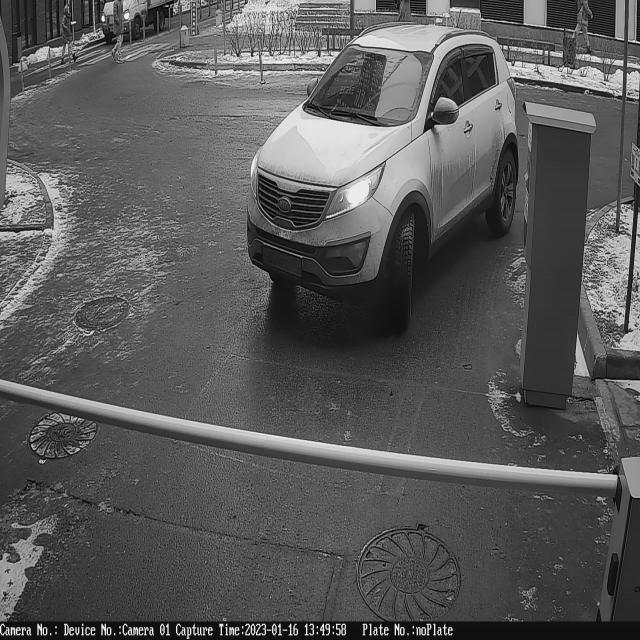car-plate-numbers: (260, 240, 305, 283)
